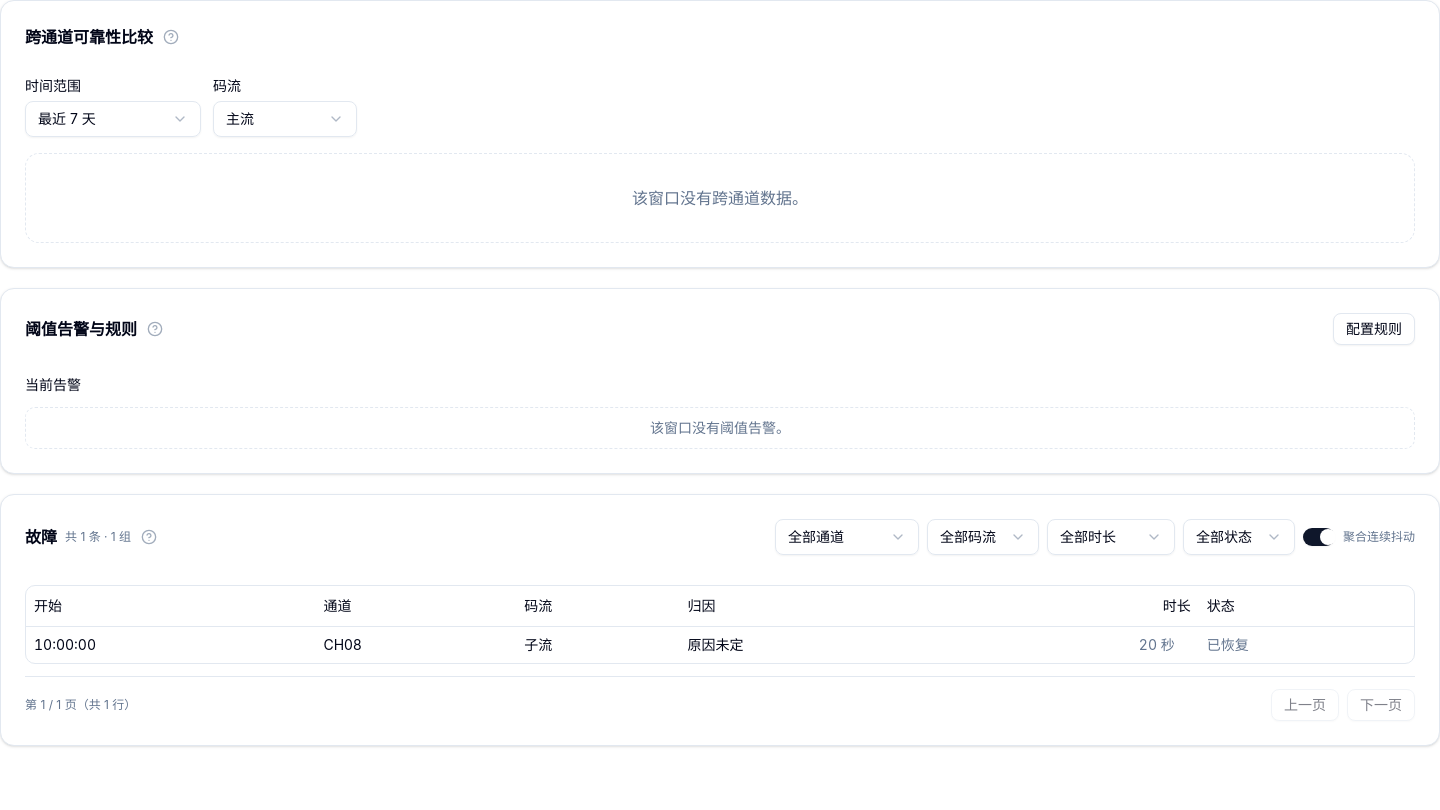
Test case: a filtered-empty list says so instead of looking like a quiet window
Click the dropdown named "最短时长".
click(1111, 537)  # box [1047,519,1175,555]
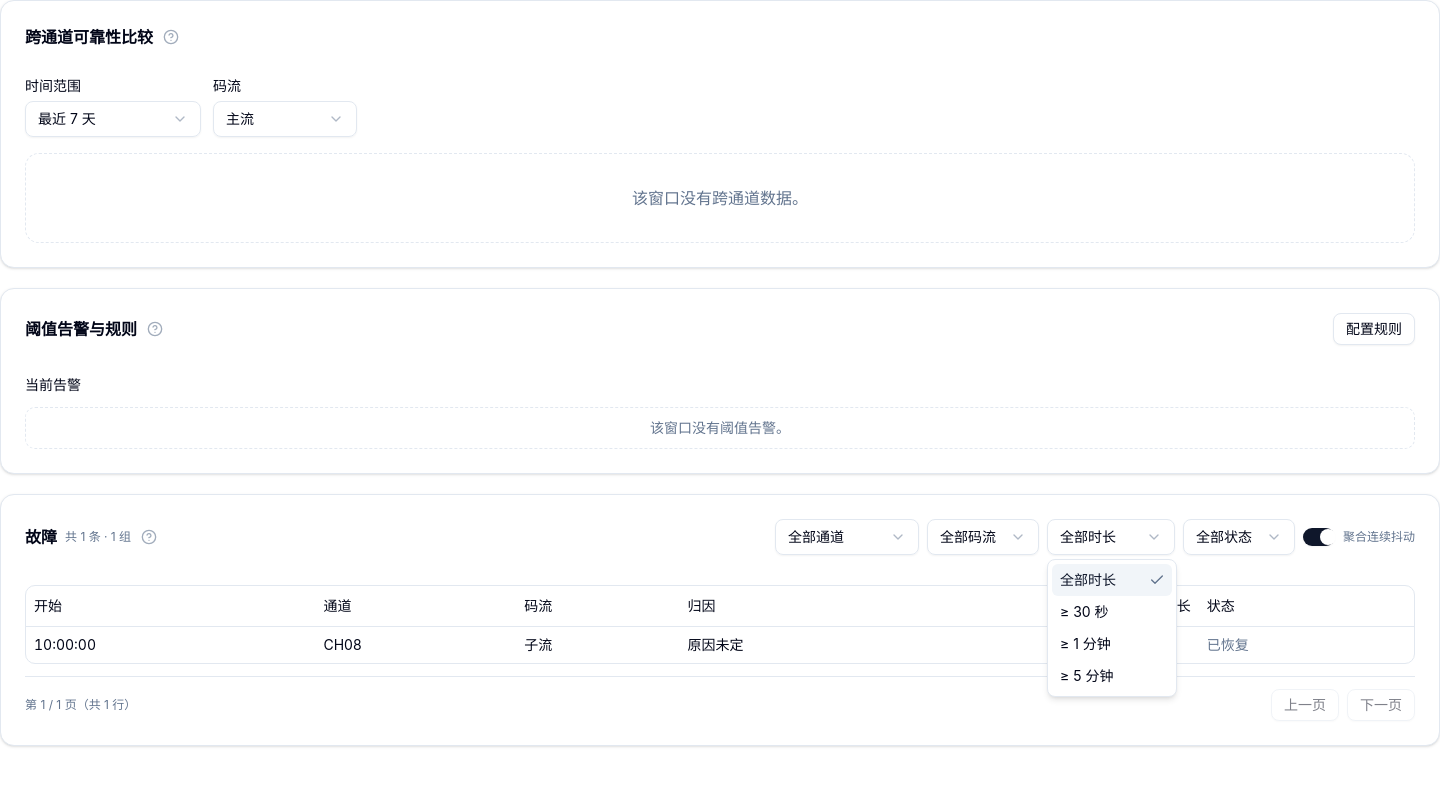
Click the option "≥ 5 分钟".
click(1087, 676)  # box [1060,667,1114,684]
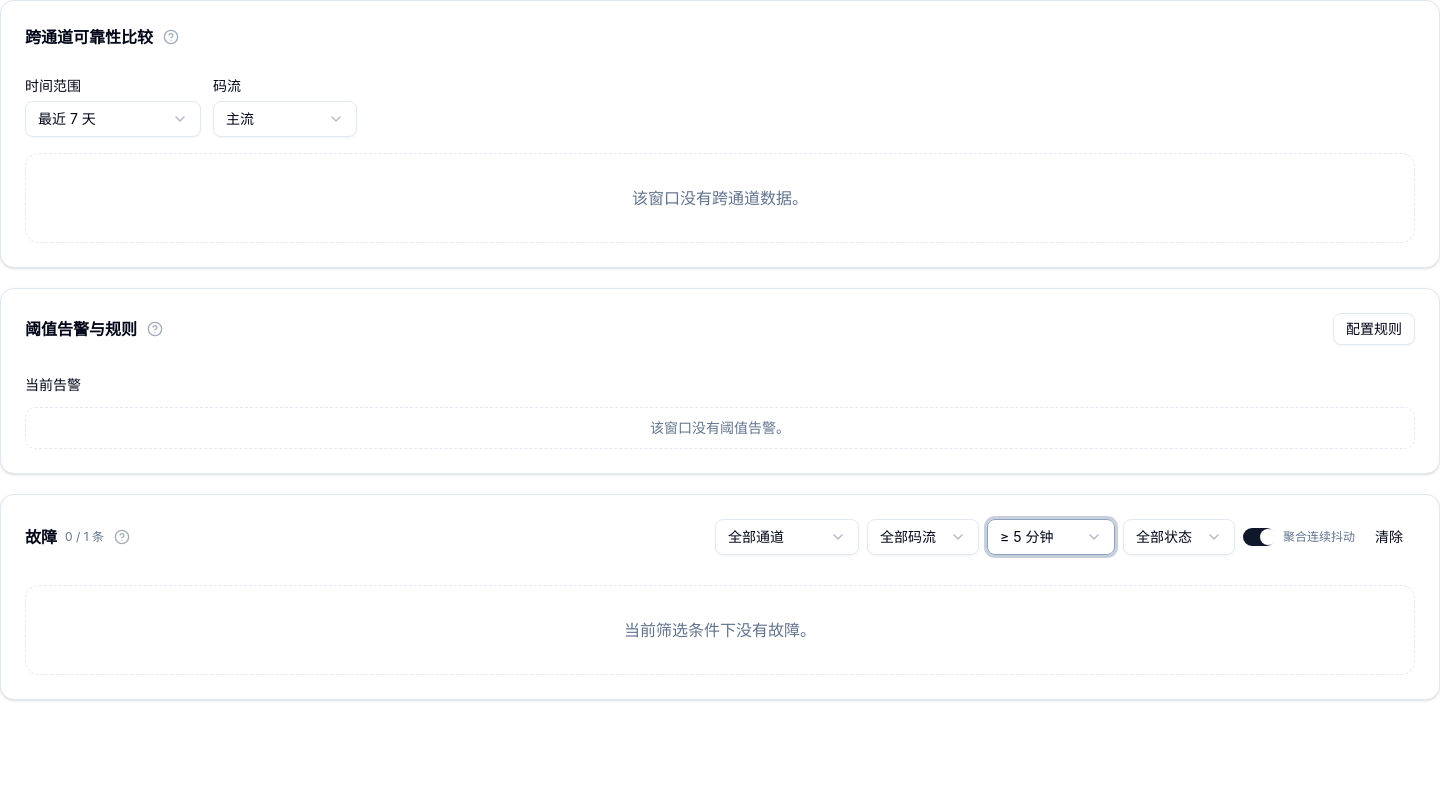
Result: the text "当前筛选条件下没有故障。" is shown at [624,618,816,642]
